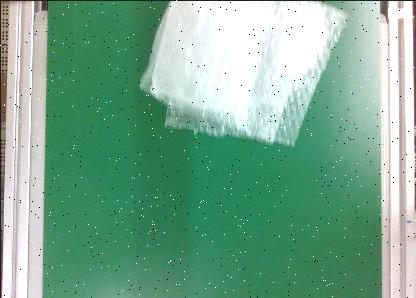Others: (139, 0, 350, 145)
